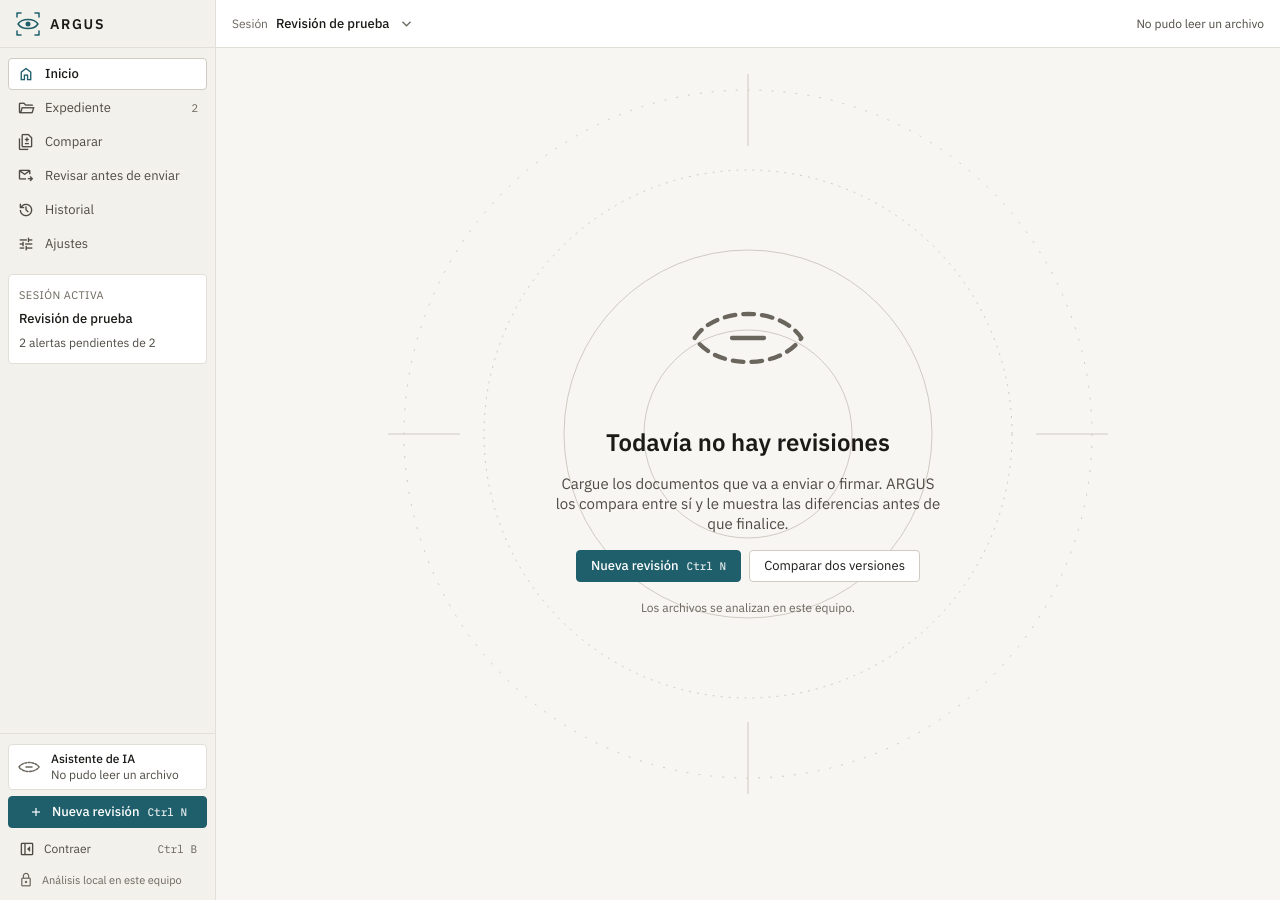
Test: Búsqueda global (Ctrl K) › explica cuándo falta escribir y cuándo no hay resultados
Click the button "Expediente 2": coordinates (108, 108) [8,92,207,124]
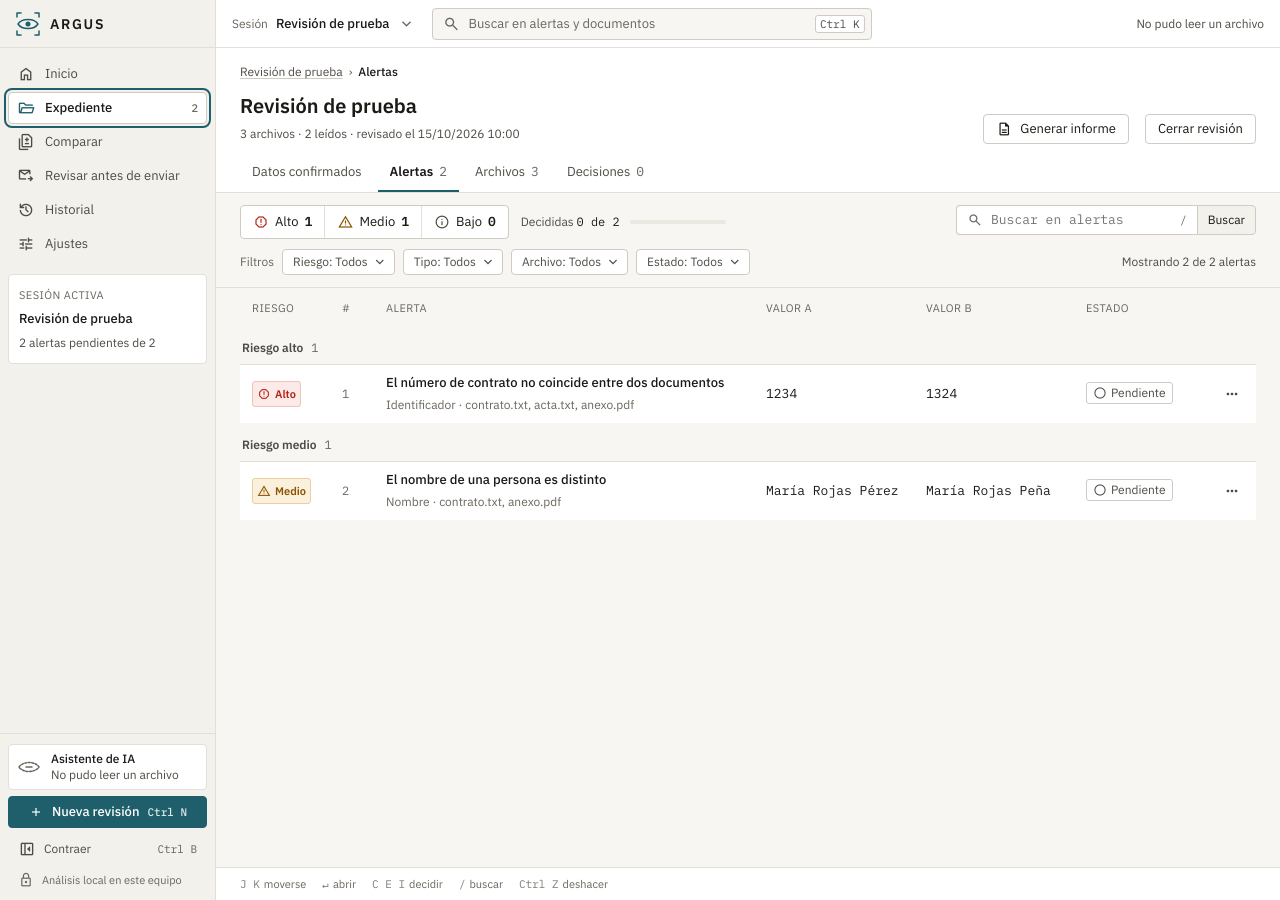
Type keys "{Control>}k{/Control}"
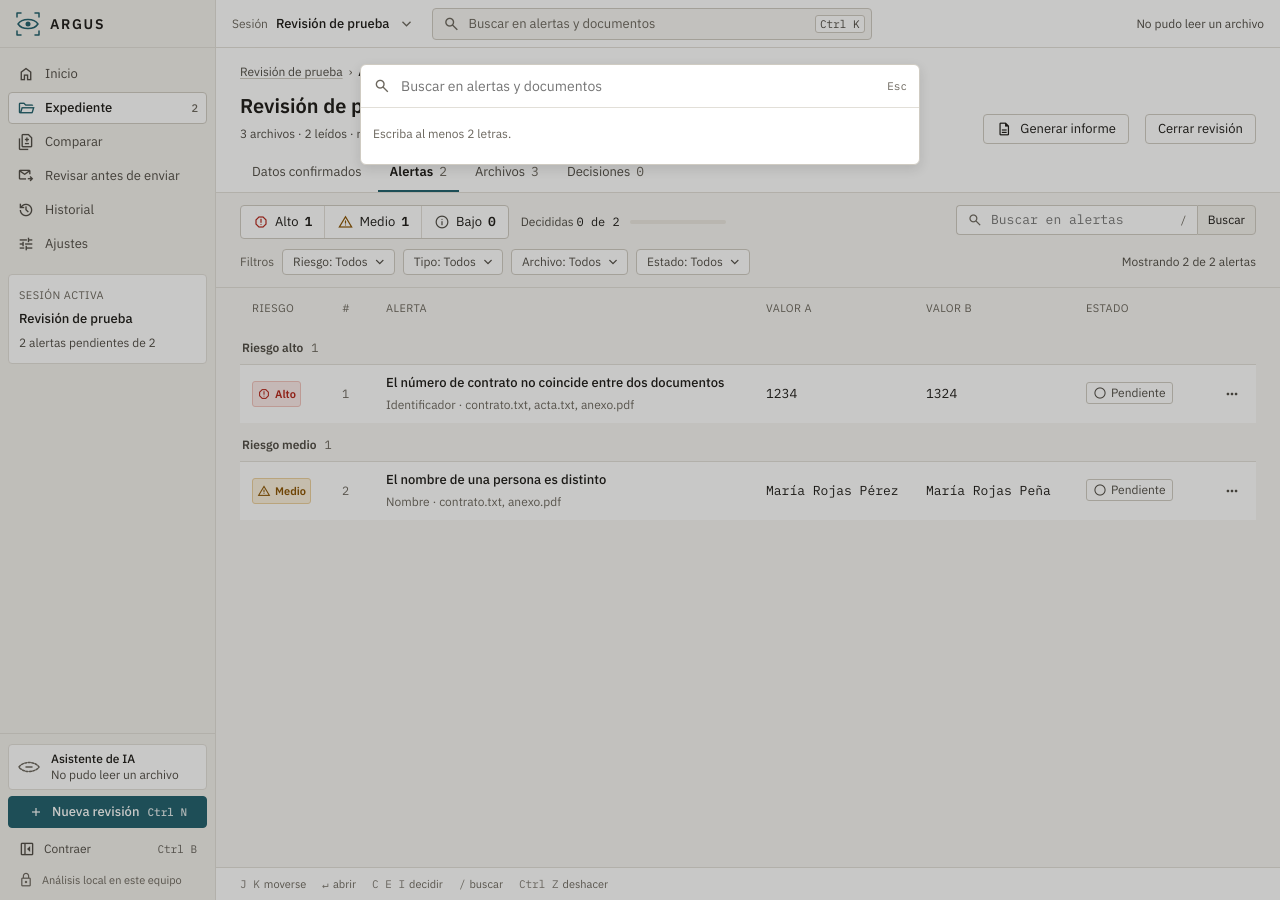
Expected: the text "Escriba al menos 2 letras." is shown, [373,126,511,141]
In the dropdown: coordinates (639, 86) [399,75,879,97], type "zzz"
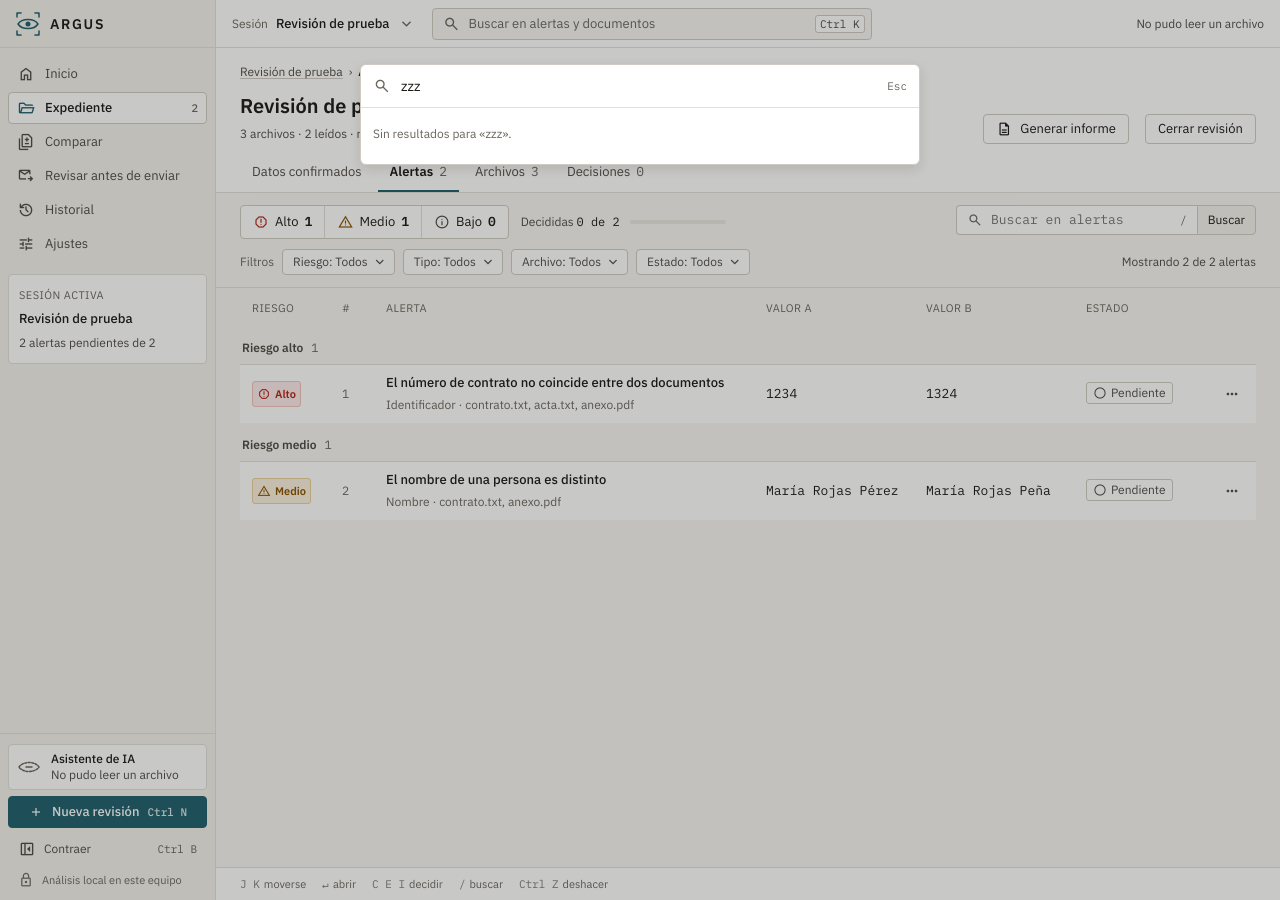
Expected: the text "Sin resultados para «zzz»." is shown, [373,126,512,141]
